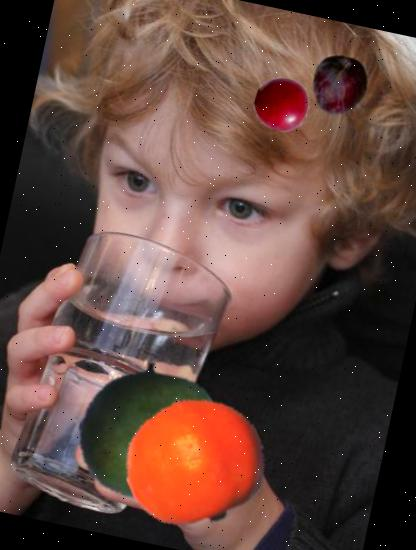Cherry: (249, 73, 314, 138)
Clementine: (112, 381, 278, 546)
Mango: (65, 344, 241, 520)
Plum: (304, 50, 376, 122)
